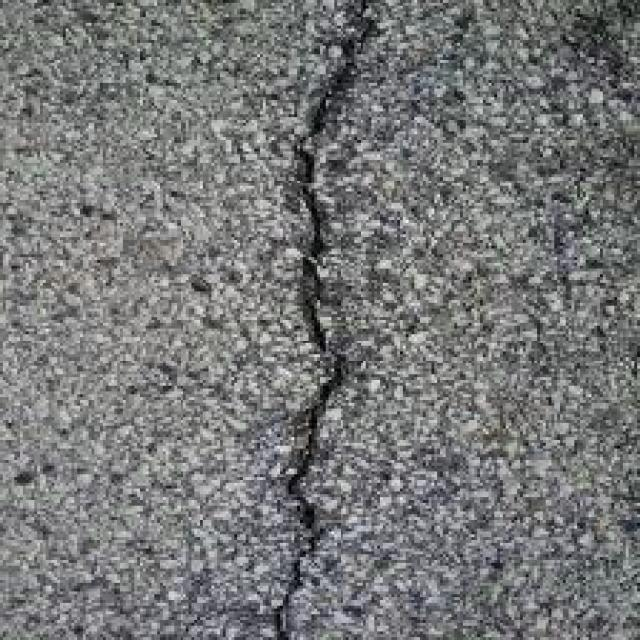crack: (256, 0, 378, 640)
